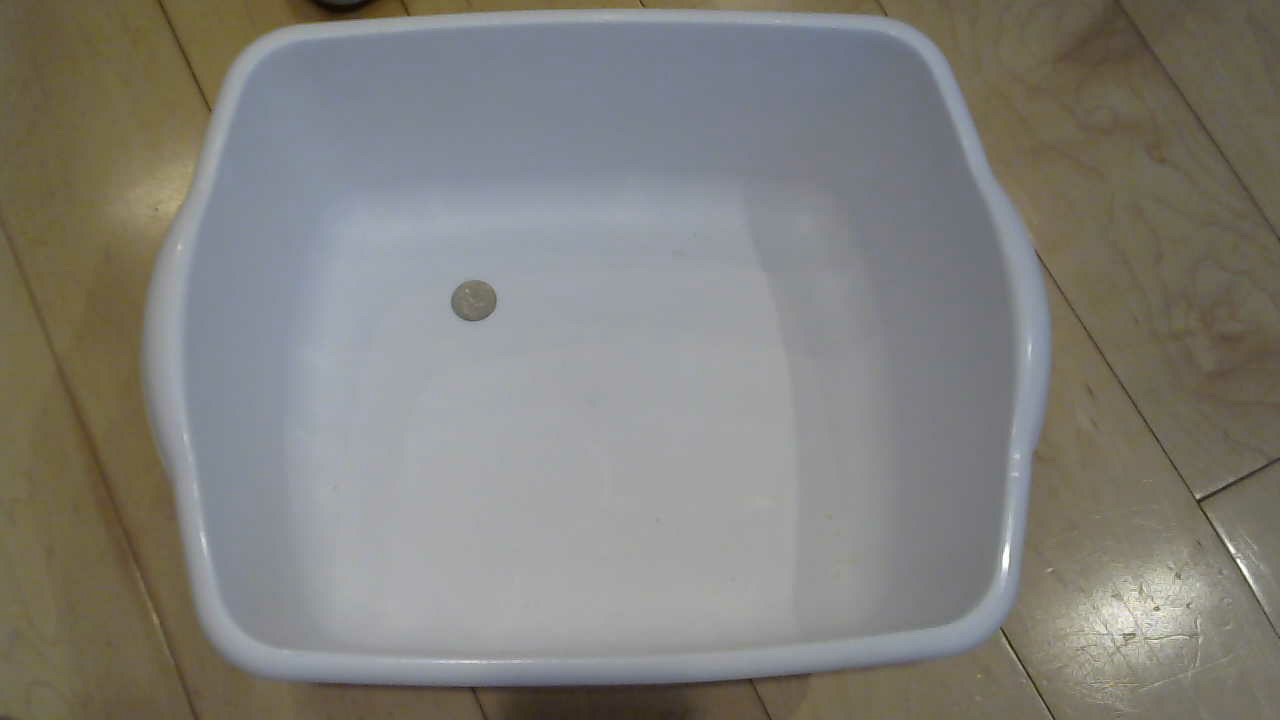coin: (438, 277, 511, 337)
